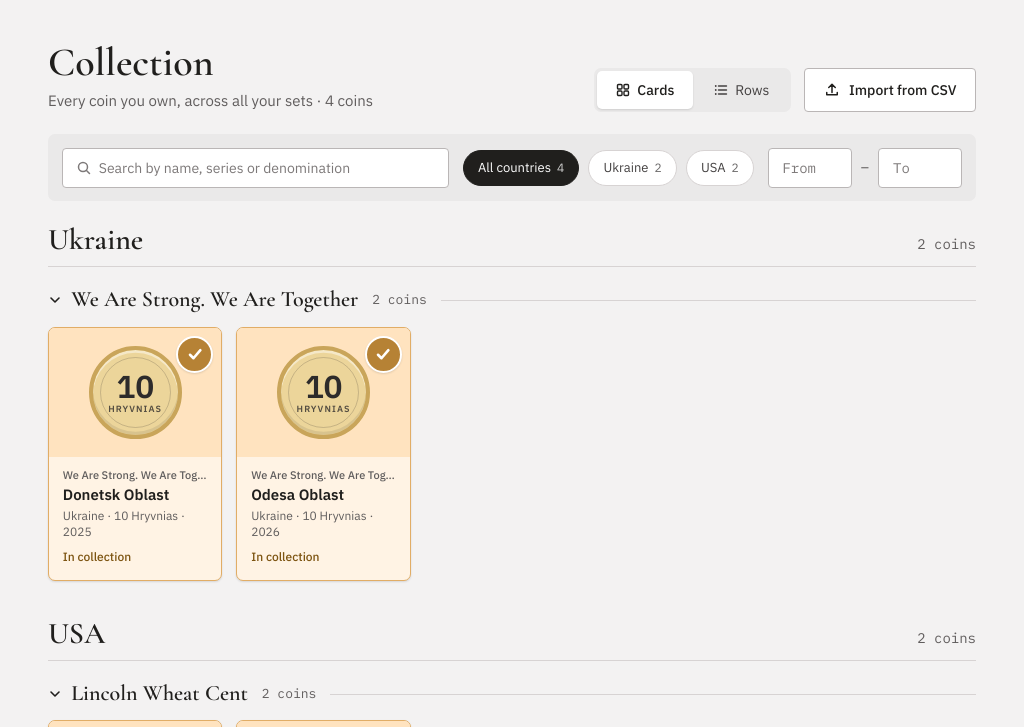
it: CollectionPage › criterion 5: Clear › resets the search, the country and both years
The width and height of the screenshot is (1024, 727).
Type "oblast" into the search field with test id "collection-search".
click(256, 168); type("oblast")  # box [62, 148, 449, 188]
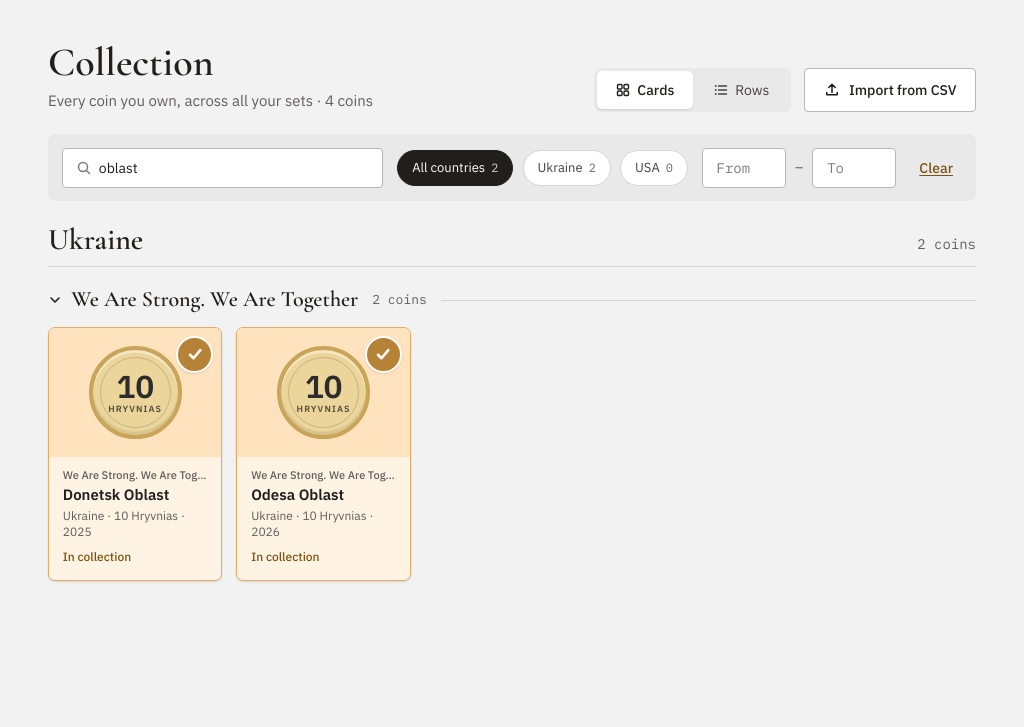
Click the button with test id "collection-country-chip".
click(567, 168)  # box [522, 150, 611, 186]
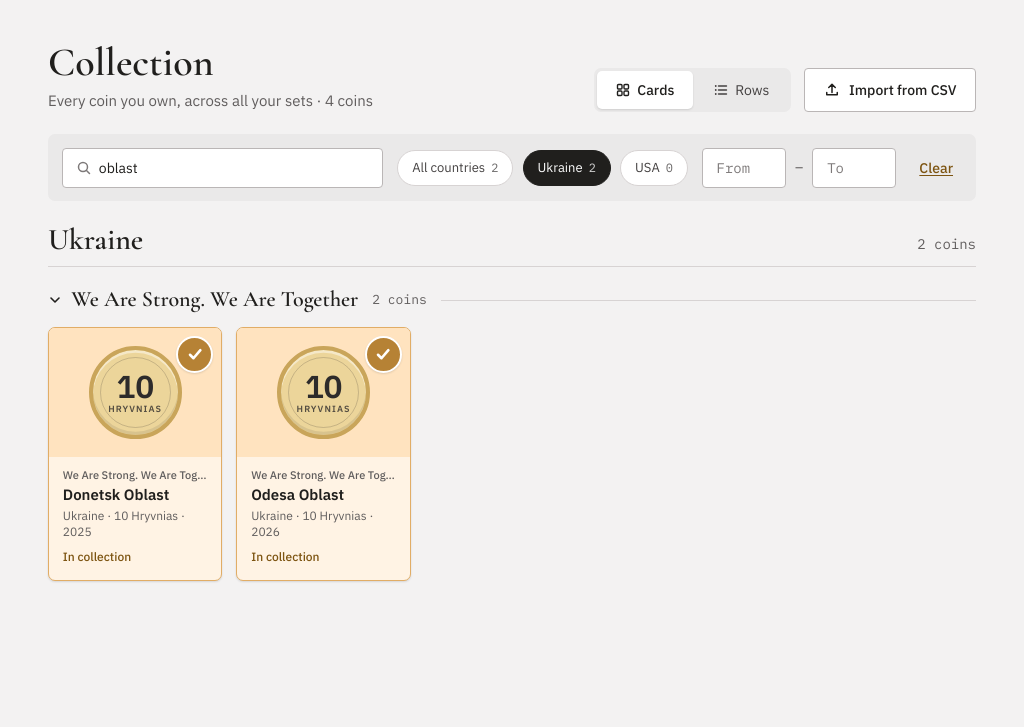
Type "2000" into the field with test id "collection-year-from".
click(744, 168); type("2000")  # box [702, 148, 786, 188]
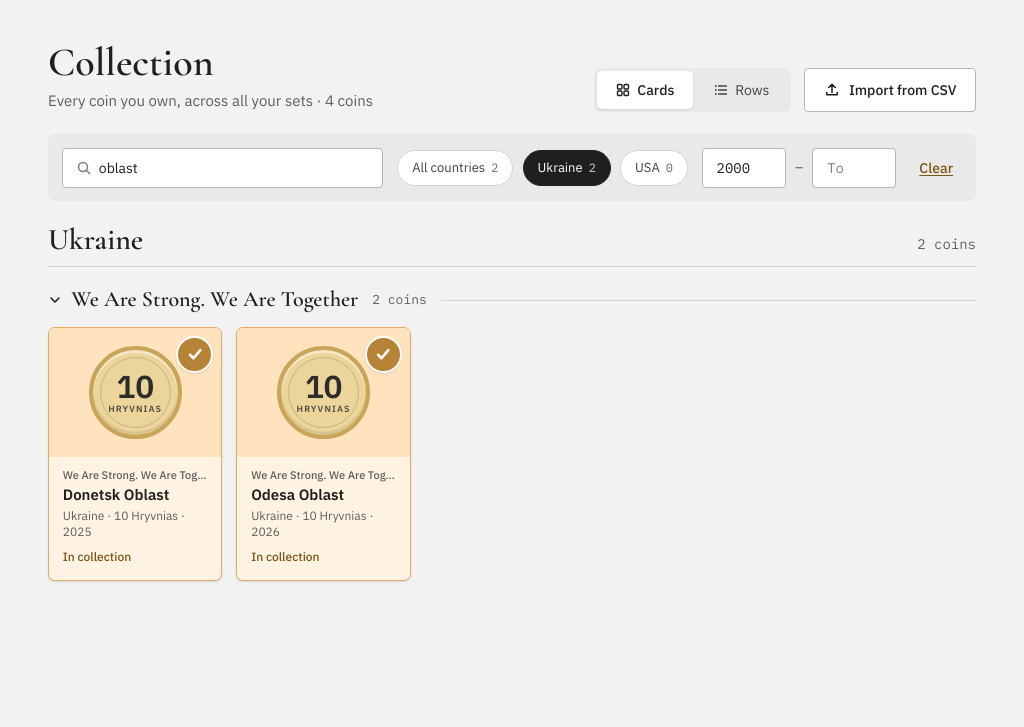
Type "2030" into the field with test id "collection-year-to".
click(854, 168); type("2030")  # box [812, 148, 896, 188]
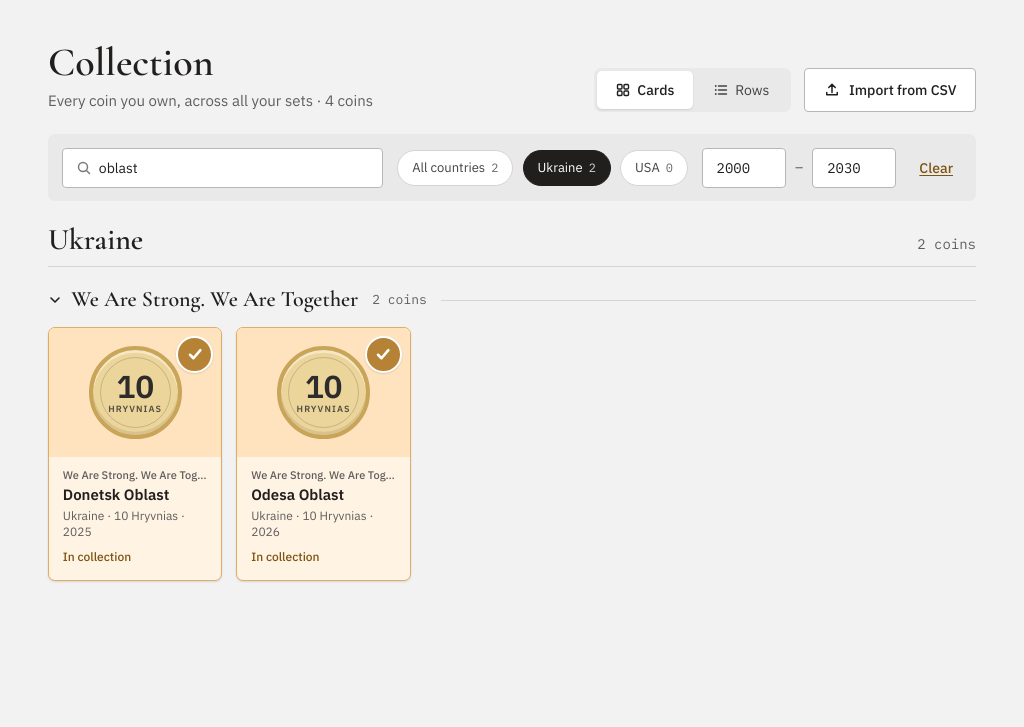
Click the button with test id "collection-filter-clear".
click(936, 168)  # box [910, 150, 962, 186]
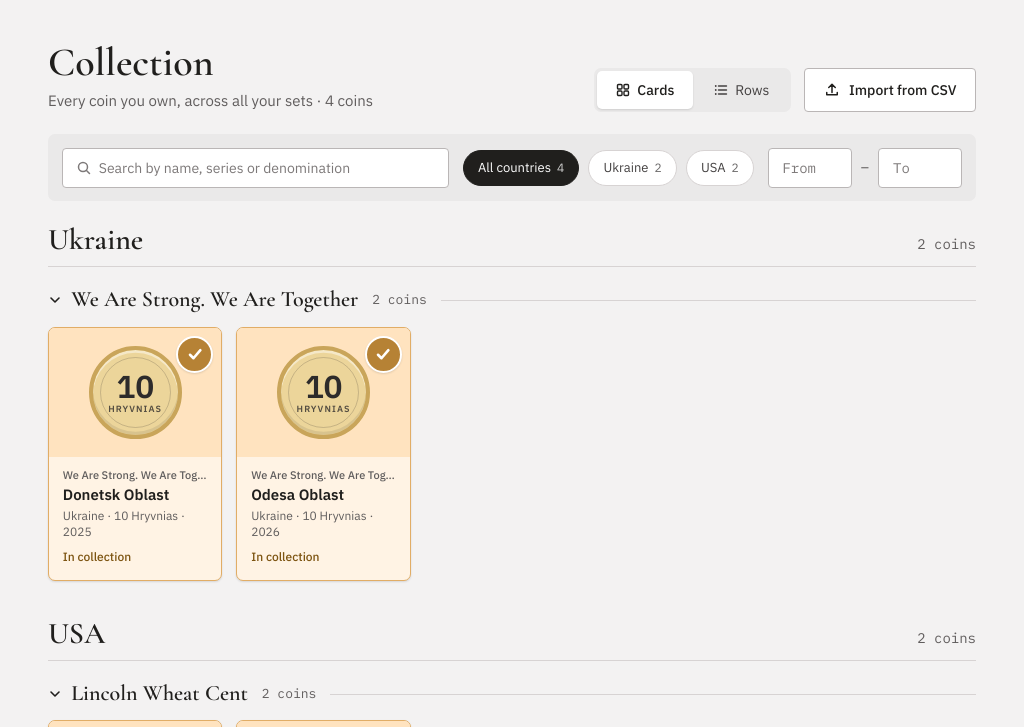
Check: the search field with test id "collection-search" is empty, box [62, 148, 449, 188]
Check: the field with test id "collection-year-from" is empty, box [768, 148, 852, 188]
Check: the field with test id "collection-year-to" is empty, box [878, 148, 962, 188]
